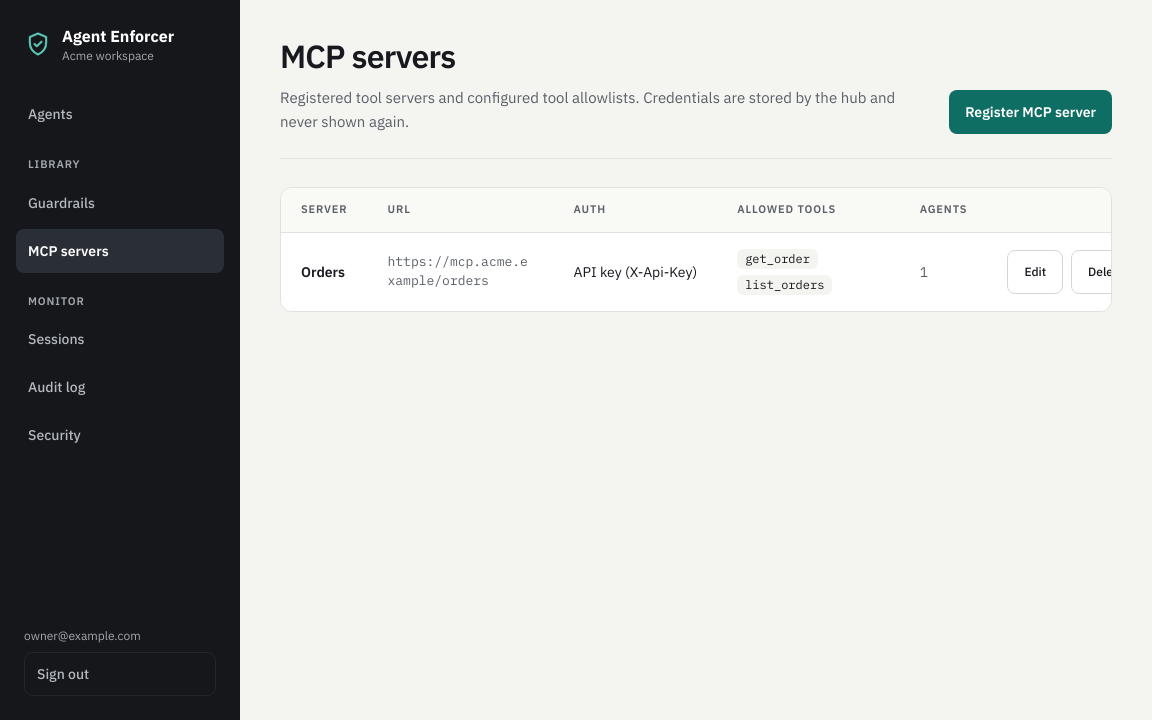
Test case: MCP servers › warns that removing a tool also removes it from agents
Expected: the element named "MCP servers table" is shown, top-left (280, 187), bottom-right (1112, 312)
Click the button with aria-label "Edit Orders". click: (1035, 272)
box: top-left (1007, 250), bottom-right (1063, 294)
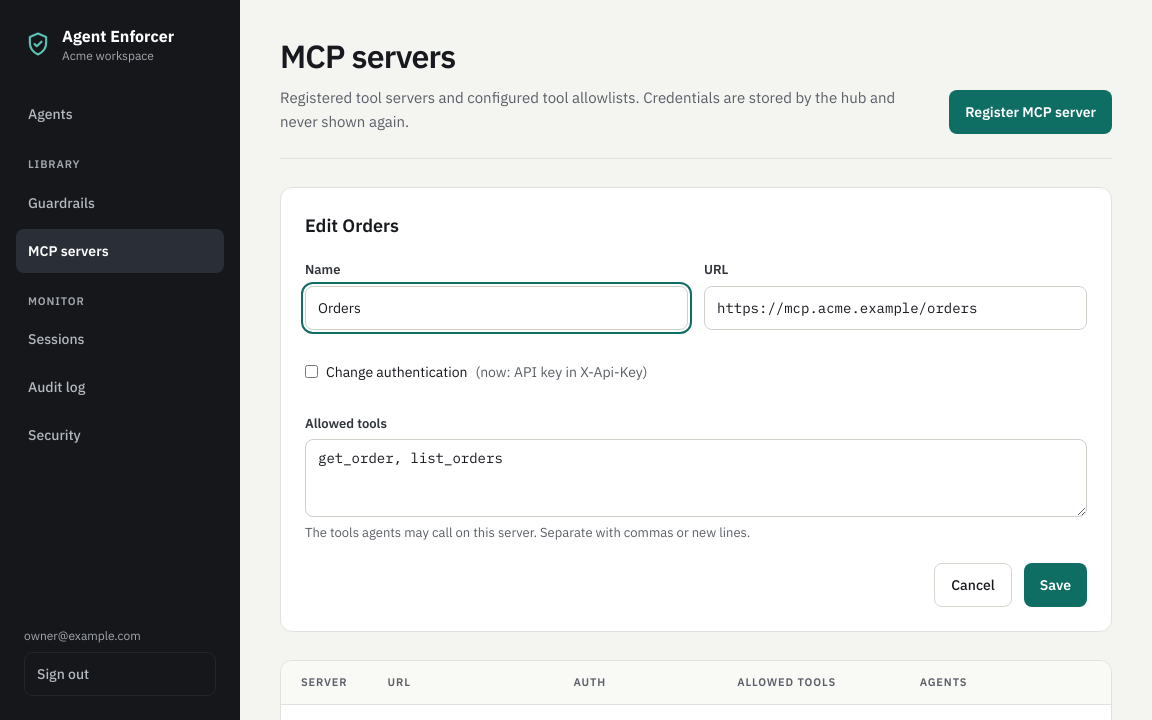
Replace the text in the text box labelled "Allowed tools" with "get_order". click: (696, 478)
box: top-left (305, 439), bottom-right (1087, 517)
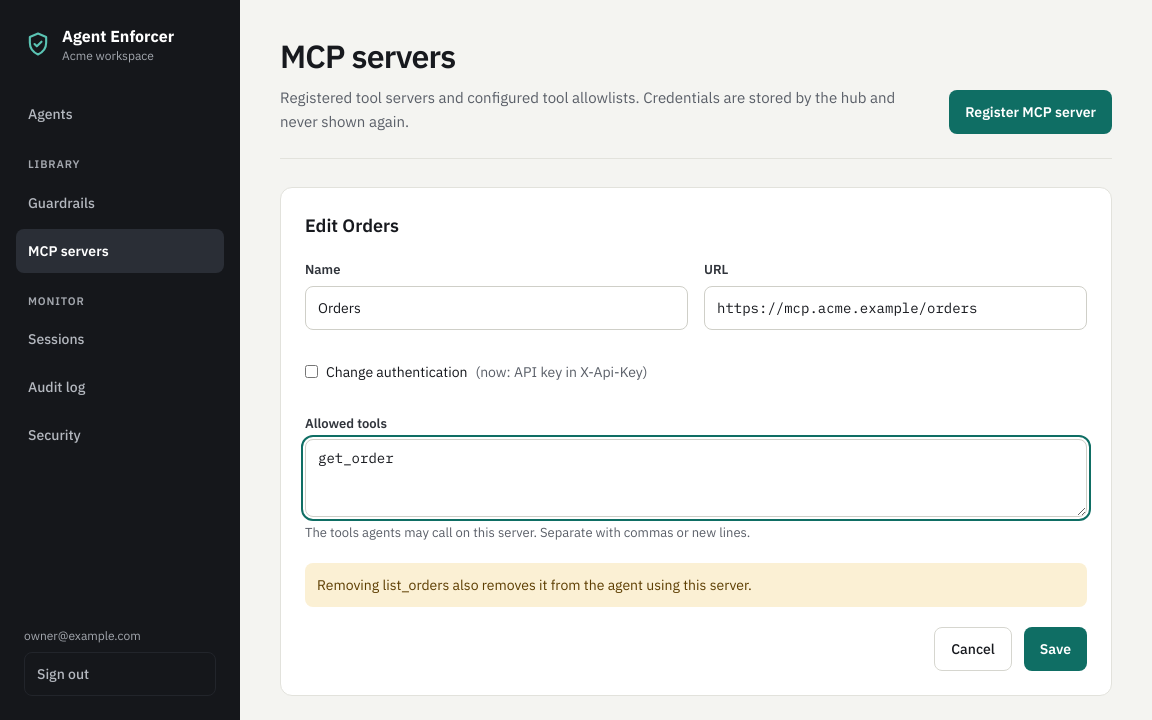
Now the text "Removing list_orders also removes it from the agent using this server." is shown, box top-left (305, 562), bottom-right (1087, 606)
